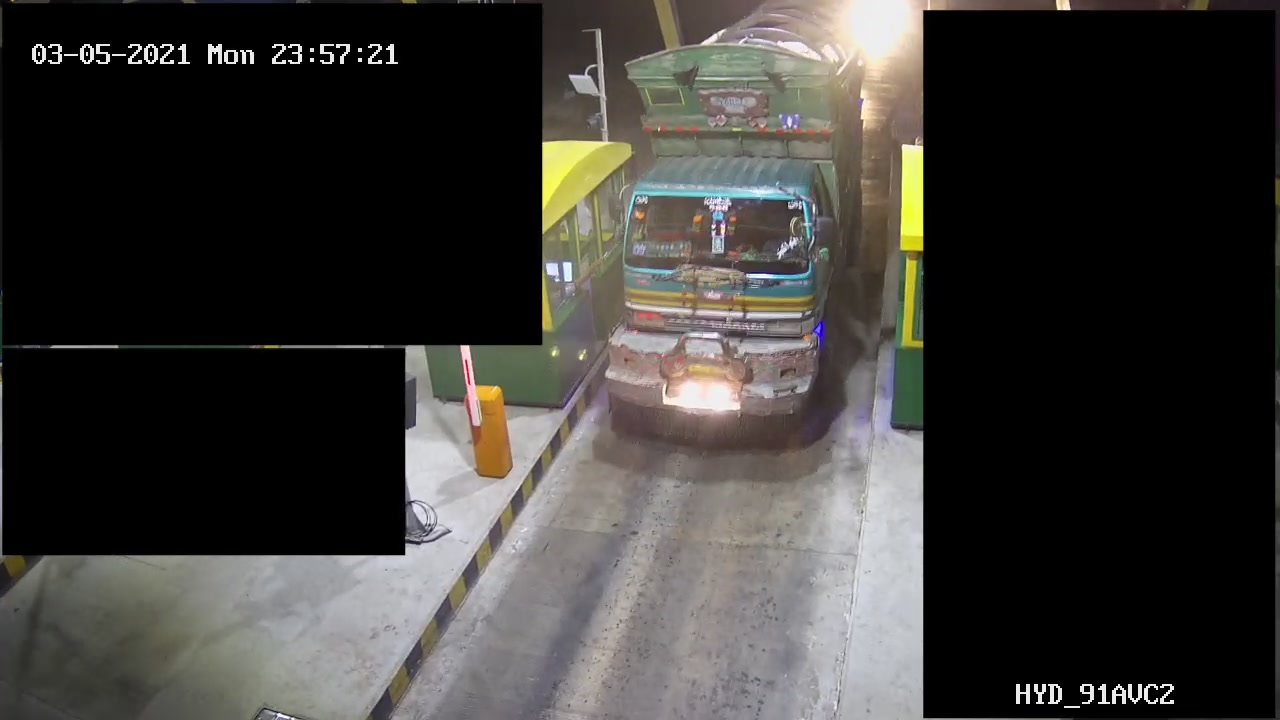F5: (593, 1, 867, 444)
